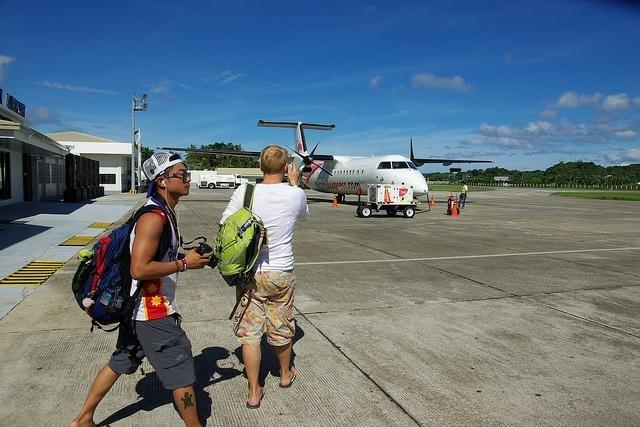truck: (356, 184, 431, 220), (197, 174, 249, 189)
